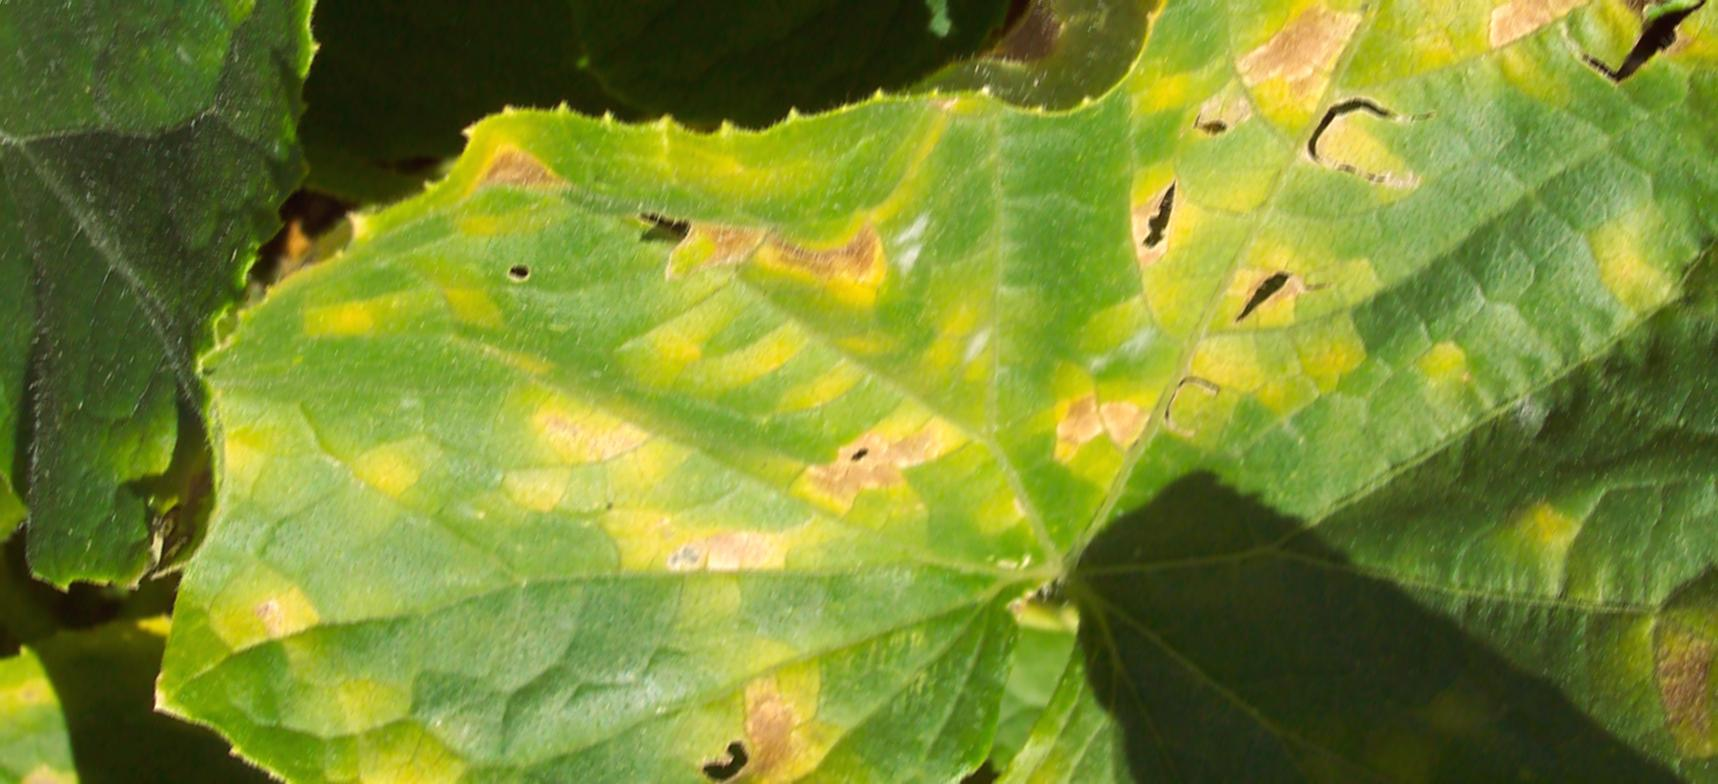Tomato mold leaf: (108, 0, 1718, 784)
